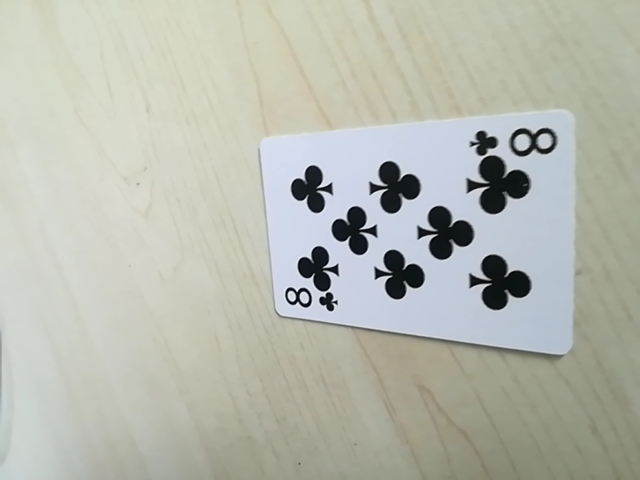mh 8: (470, 122, 560, 159), (277, 285, 339, 318)
